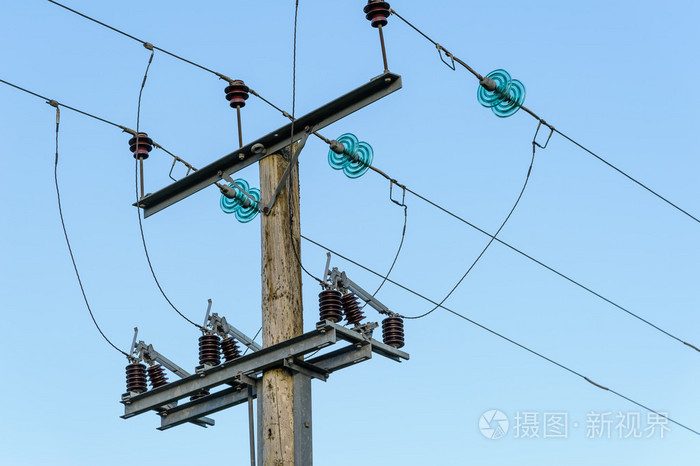insulator: (477, 69, 527, 116), (327, 134, 373, 180), (219, 179, 260, 222), (363, 2, 392, 27), (128, 133, 156, 157), (223, 81, 251, 105)
